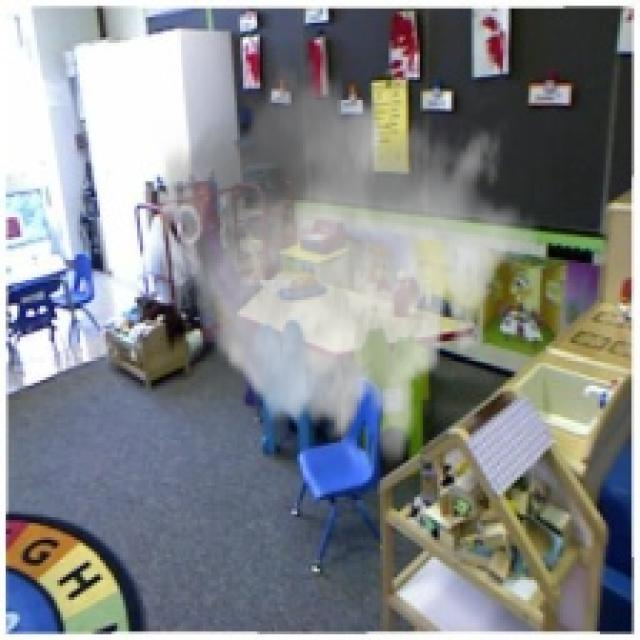smoke: (151, 51, 540, 472)
